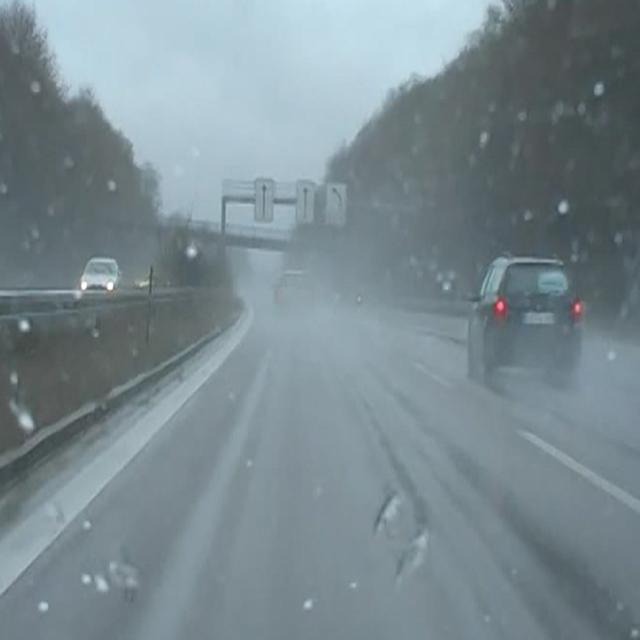car: (468, 255, 586, 385), (270, 264, 318, 316), (78, 255, 130, 294)
